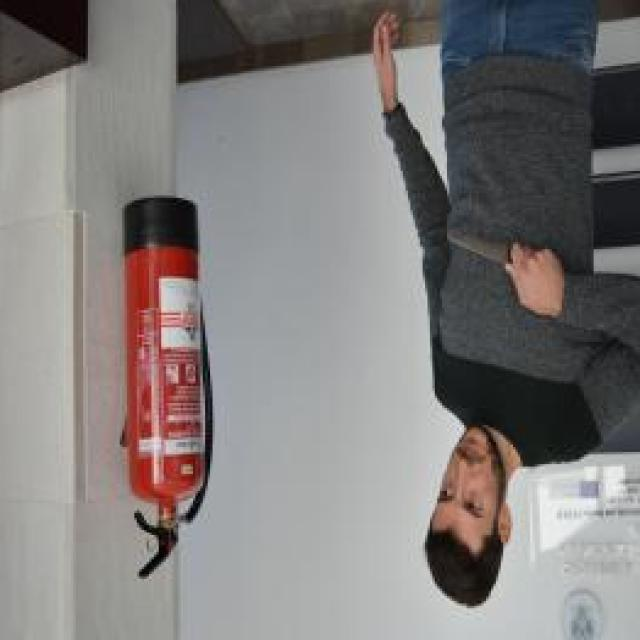knife: (442, 225, 525, 278)
